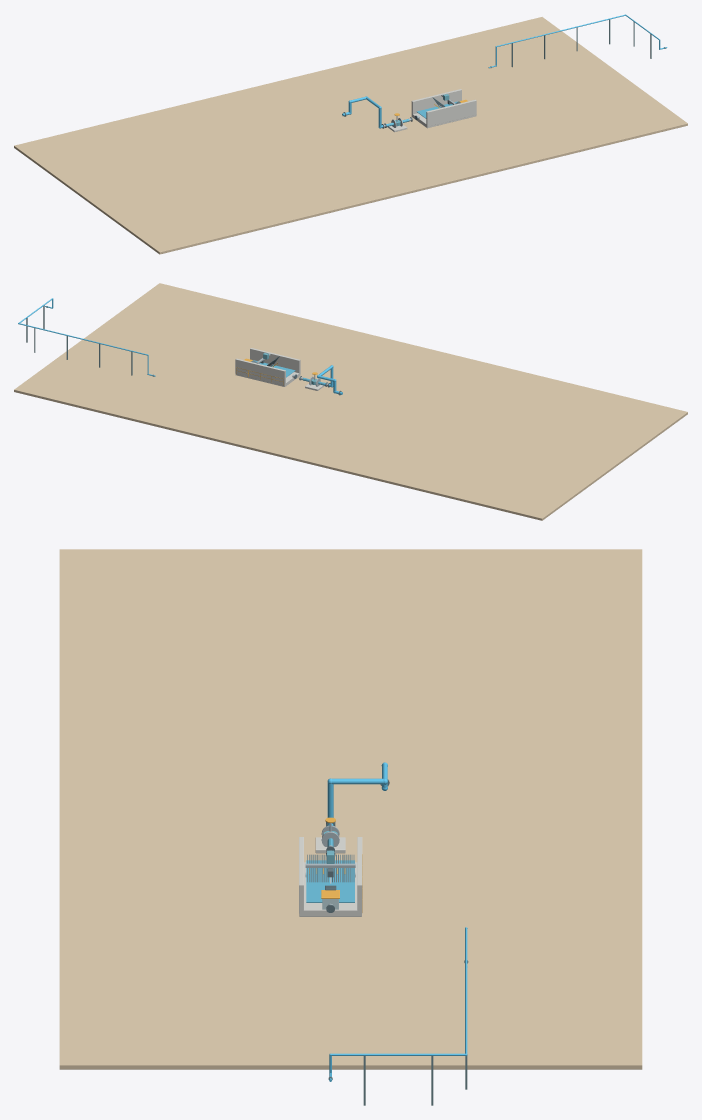
3 views of the same model, one above another, from view 1: azimuth 30°, elevation 25°; view 2: azimuth 150°, elevation 25°; view 3: azimuth 270°, elevation 25° (orthographic). The views are drawn at different scales.
Parts seen in each view (by area): view 1: render-batch-8, render-batch-7, render-batch-0; view 2: render-batch-8, render-batch-7, render-batch-0; view 3: render-batch-8, render-batch-7, render-batch-0, render-batch-2, render-batch-1.
Boxes of the visible parts, x1,y1,x2,y2 form: render-batch-8: (14,17,687,254); render-batch-7: (387,89,476,132); render-batch-0: (342,14,667,128); render-batch-8: (14,283,687,520); render-batch-7: (235,348,324,390); render-batch-0: (18,298,342,394); render-batch-8: (59,549,642,1069); render-batch-7: (299,837,362,916); render-batch-0: (327,762,467,1081); render-batch-2: (306,825,354,902); render-batch-1: (307,822,354,912).
Size of the model in its own units: 97.95 by 4.61 by 43.
